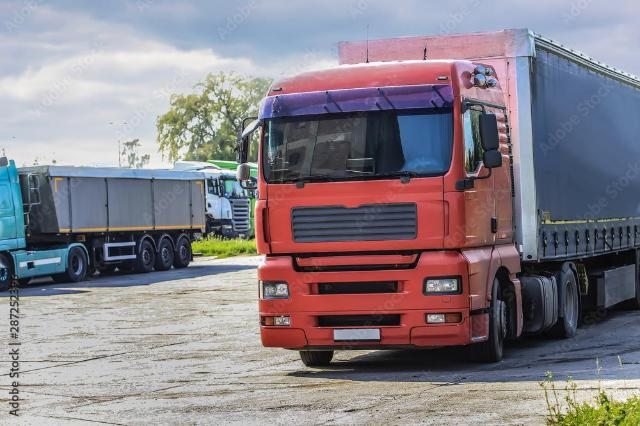truck: (214, 13, 640, 373)
